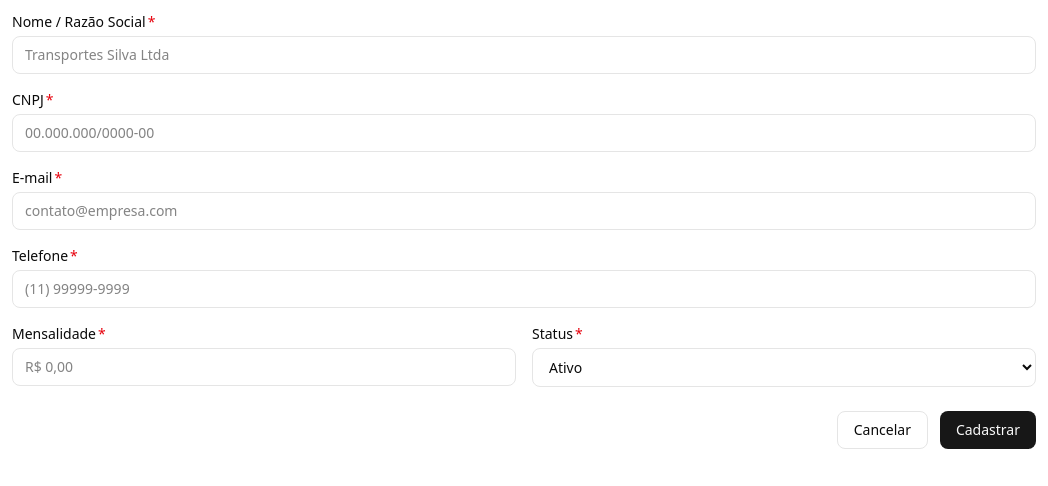
Test: CustomerForm — validação › CNPJ inválido → erro de validação
Type "00000000000000" into the field labelled "CNPJ*" at (524, 133), box [12,114,1036,152]
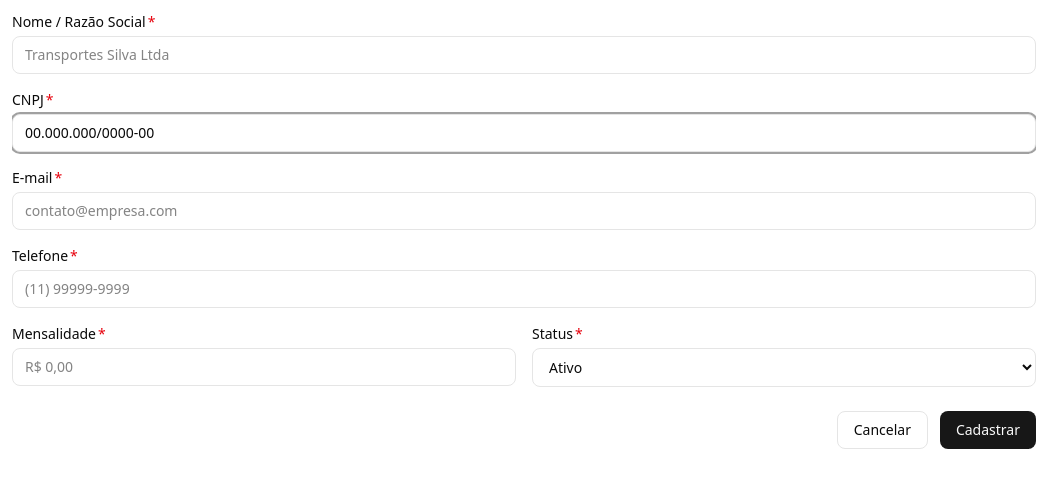
Leave the field labelled "CNPJ*", box [12,114,1036,152]
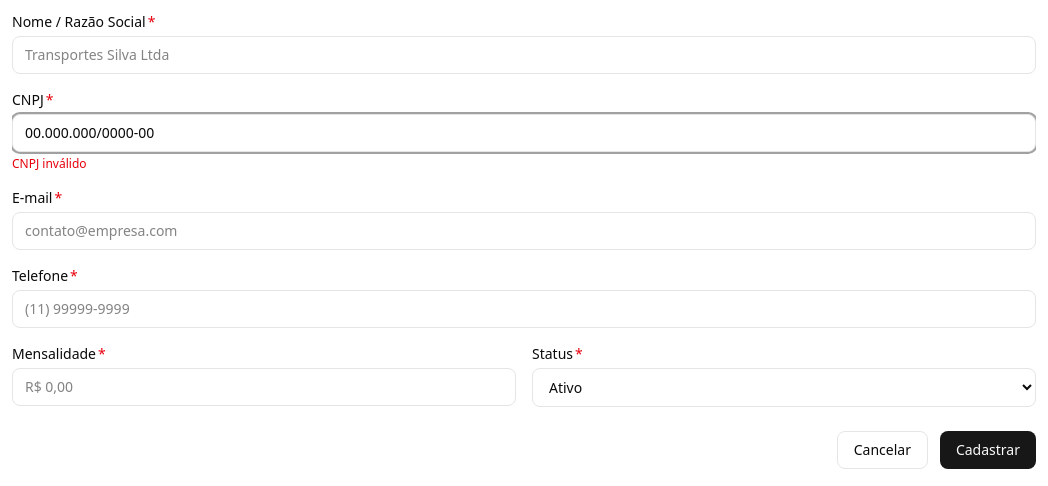
Result: the message "CNPJ inválido" is shown at [12,155,86,172]
